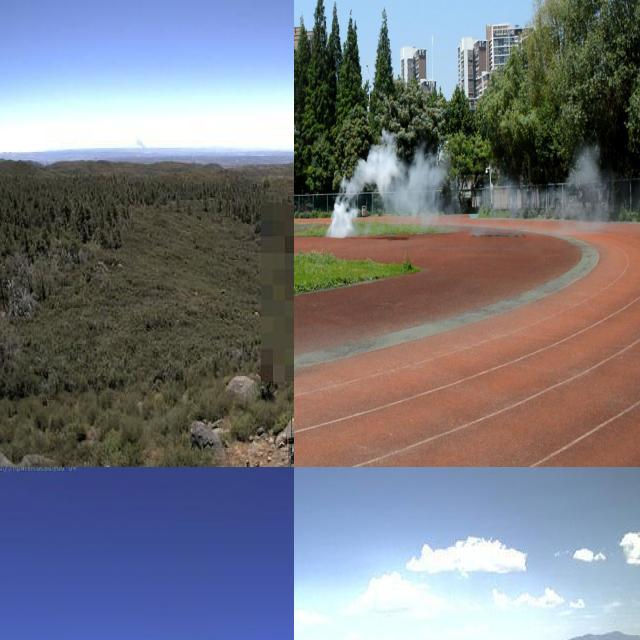smoke: (324, 130, 447, 236), (471, 146, 608, 238), (129, 131, 152, 156)
